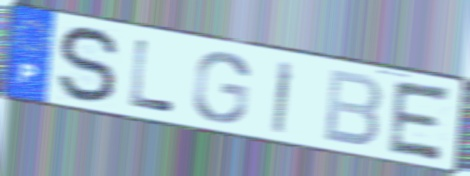B: (320, 67, 385, 150)
E: (384, 77, 455, 164)
G: (190, 50, 252, 125)
I: (270, 58, 296, 137)
L: (127, 36, 177, 115)
S: (56, 24, 122, 107)
